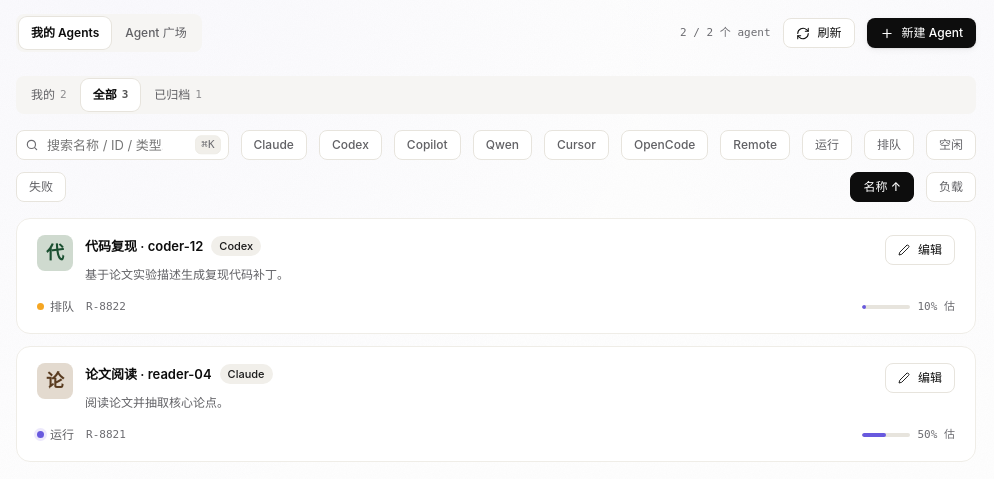
Test: AgentsView list-page (M5.1 multica) › a status filter chip narrows the list + updates result-count
Expected: the text "论文阅读 · reader-04" is shown, [85,364,212,385]
Expected: the text "代码复现 · coder-12" is shown, [85,236,203,257]
Click the button "排队". click: (889, 145)
box: [864,130,914,160]
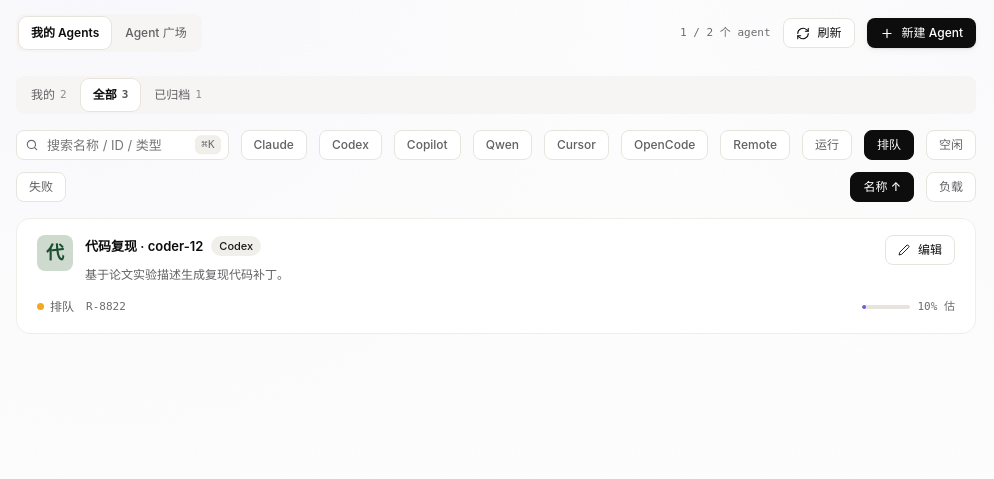
Expected: the text "代码复现 · coder-12" is shown, [85,236,203,257]
Expected: the button "论文阅读 · reader-04" is gone
Expected: the text with class "result-count" reads "1 / 2 个 agent", [680,26,771,39]
